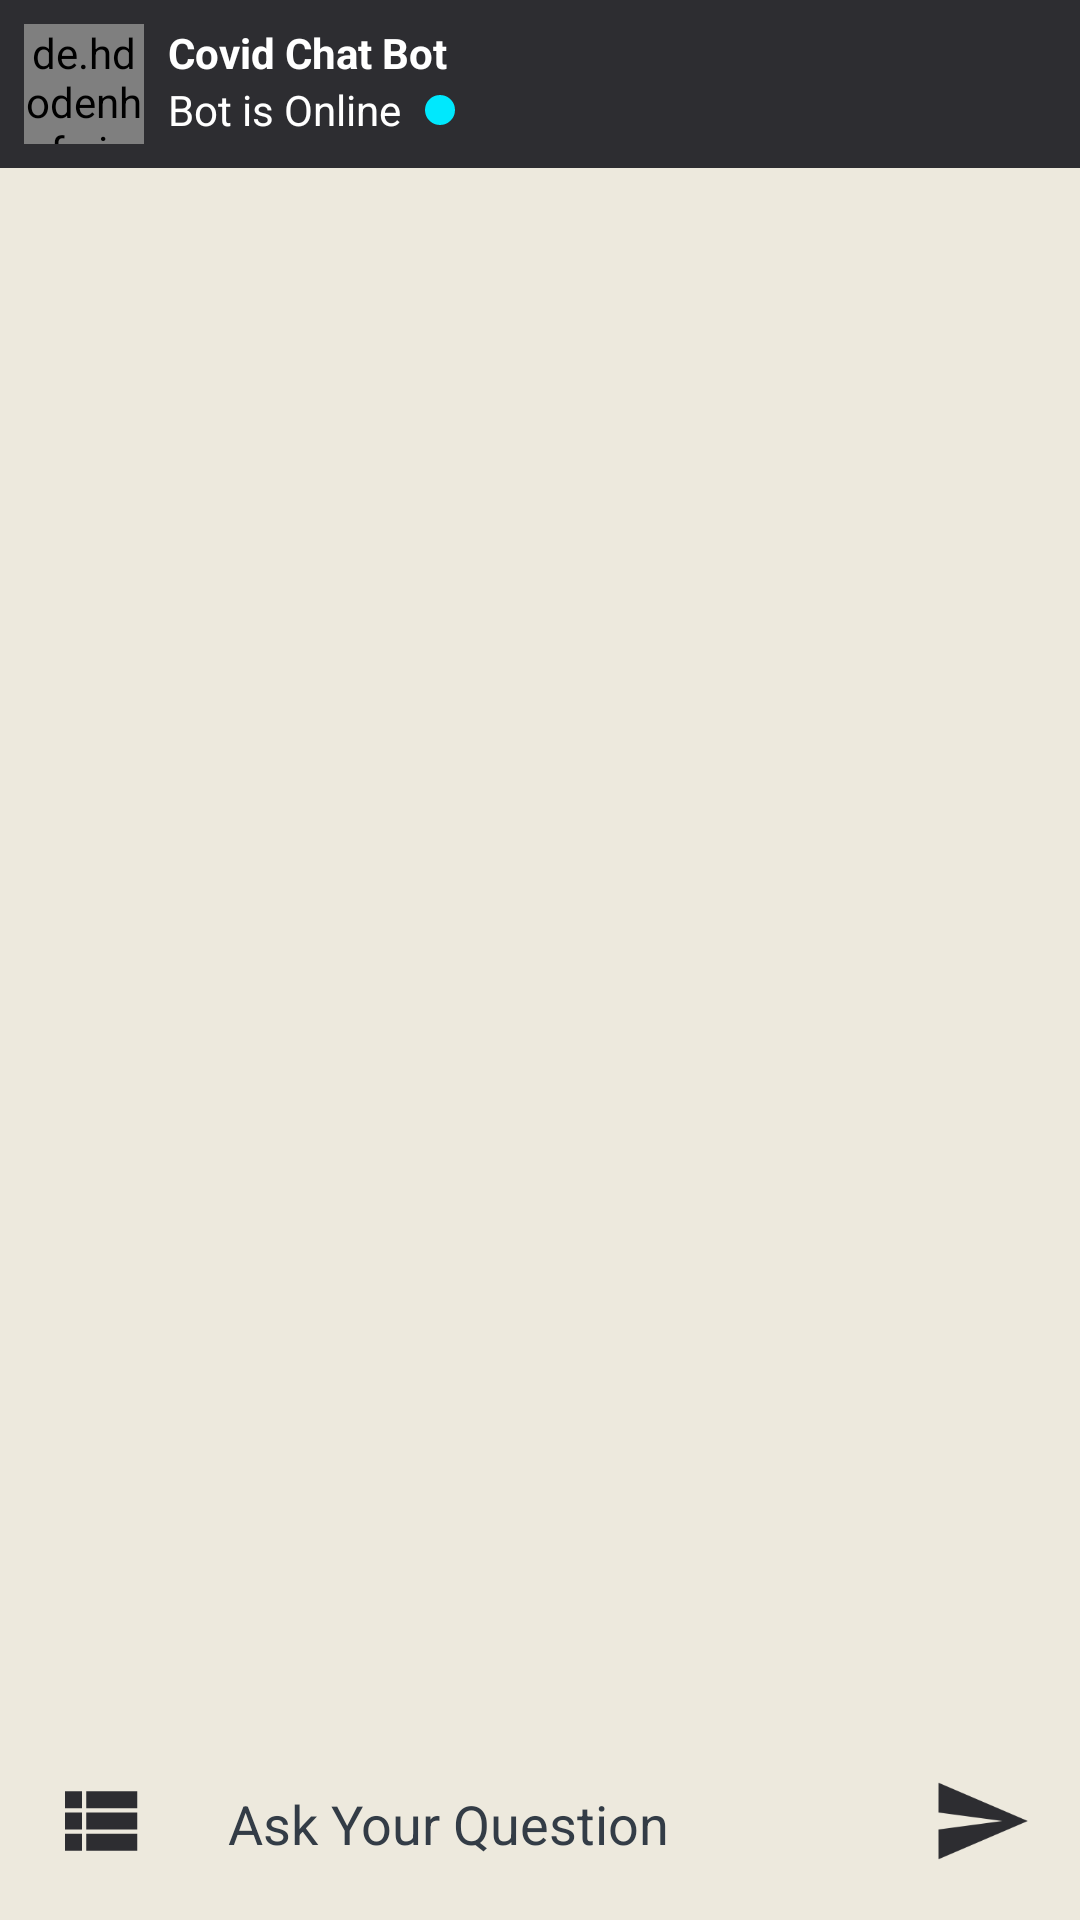

Named icons in this screenshot (1080×1920) and their centers, [x,y]:
send: [983,1821]
view list: [101,1821]
